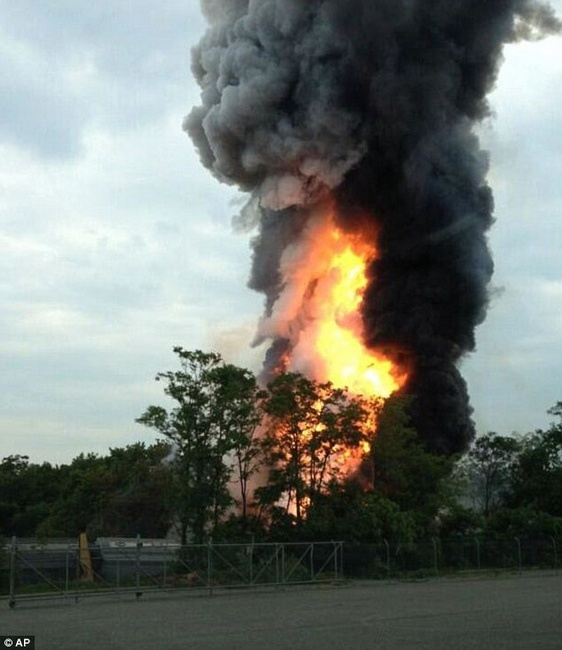fire: (275, 231, 397, 475)
